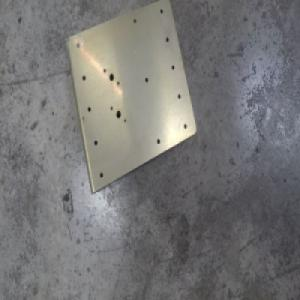MetalSheet: (63, 0, 198, 197)
